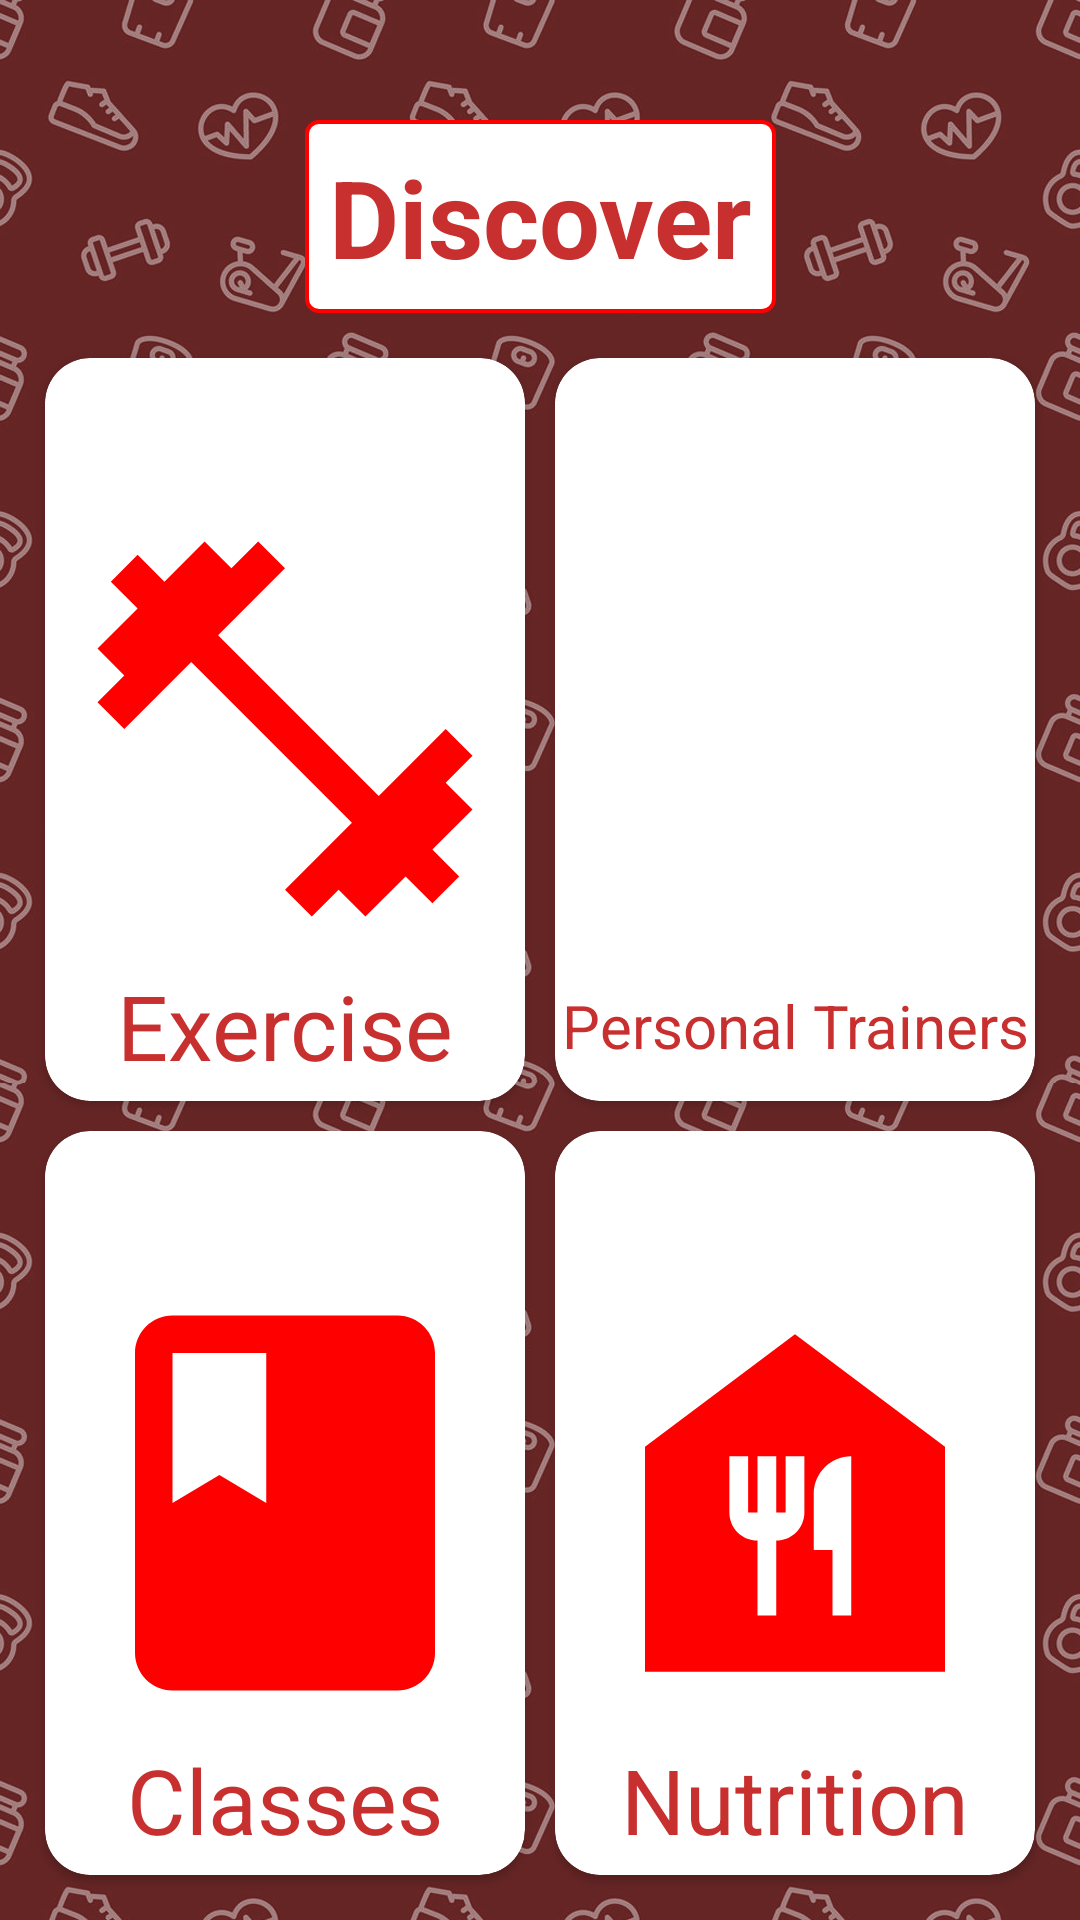

Named icons in this screenshot (1080x1920) and their bounding boxes, rect(x1, y1, x2, y2):
food bank: rect(645, 1334, 945, 1672)
